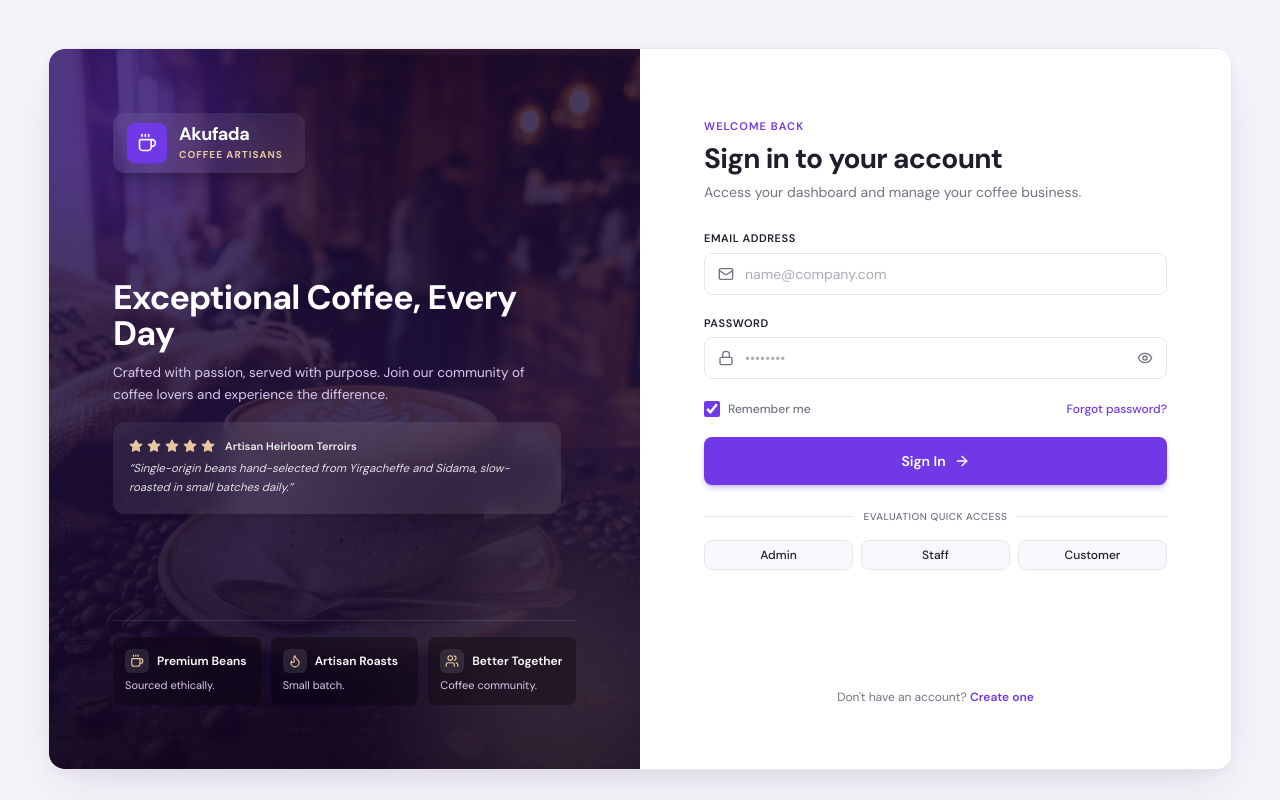
Test: <LoginPage /> › validates required fields on submission
What coordinates should you click on to do the following:
click the button "Sign In"
I would click on:
 (936, 461)
Its box is [704,437,1167,485].
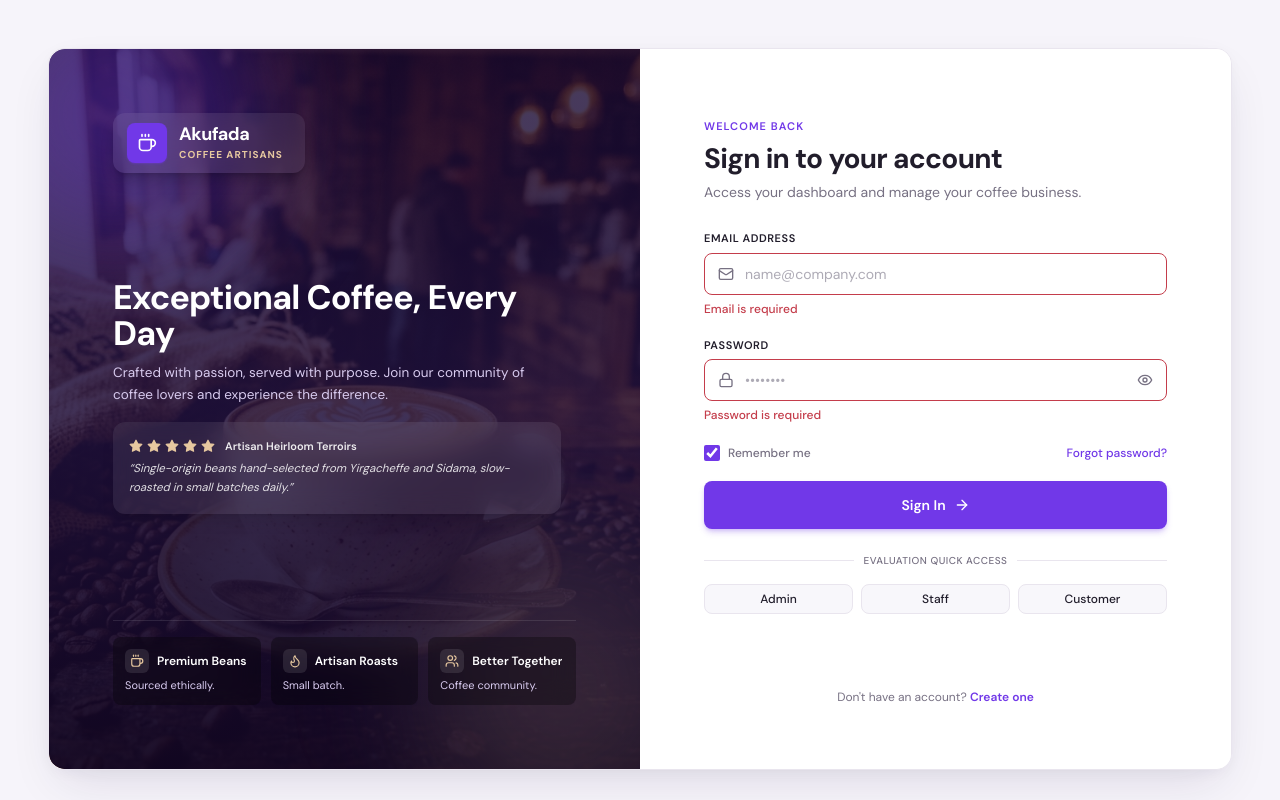
Expected: the text "Email is required" is shown, [704,300,798,316]
Expected: the text "Password is required" is shown, [704,407,821,423]
